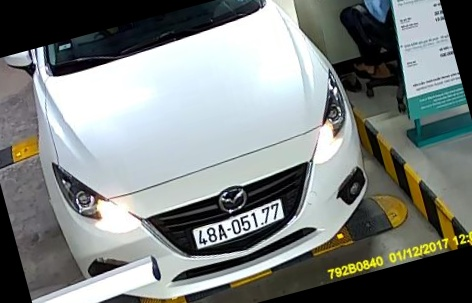plate: (191, 200, 289, 253)
